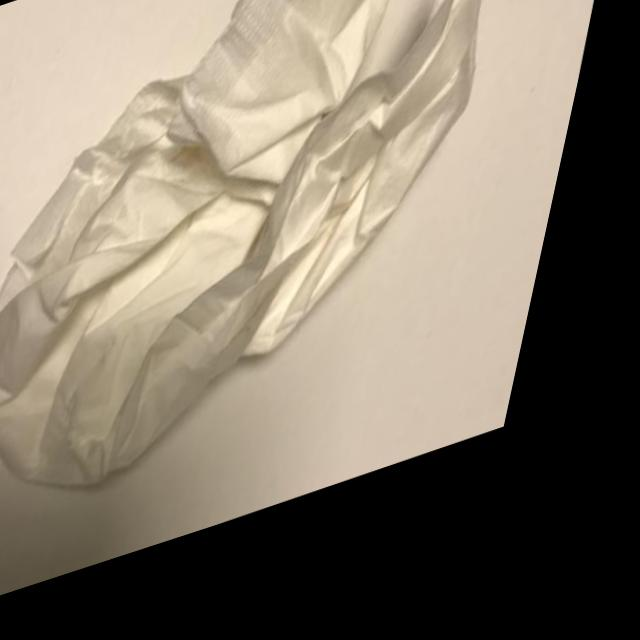trash: (0, 0, 567, 570)
